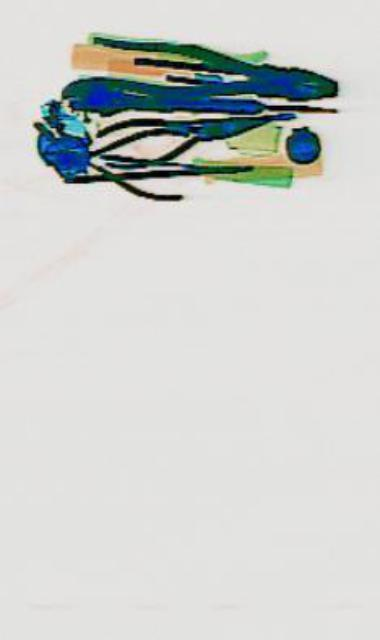Pliers: (87, 32, 335, 112), (92, 95, 275, 172), (52, 114, 187, 200)
